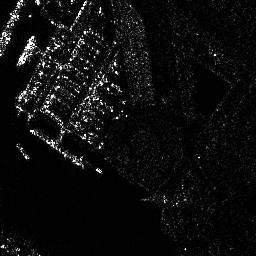ship: (15, 33, 36, 67), (13, 142, 31, 160)
